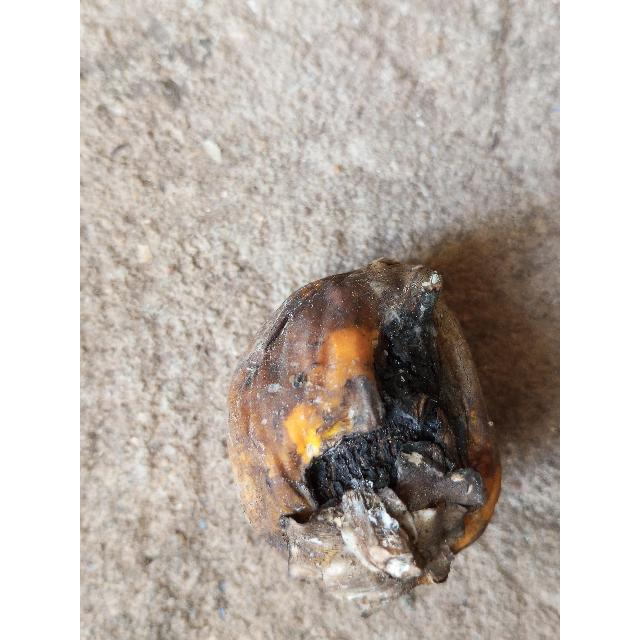damaged: (226, 259, 503, 586)
